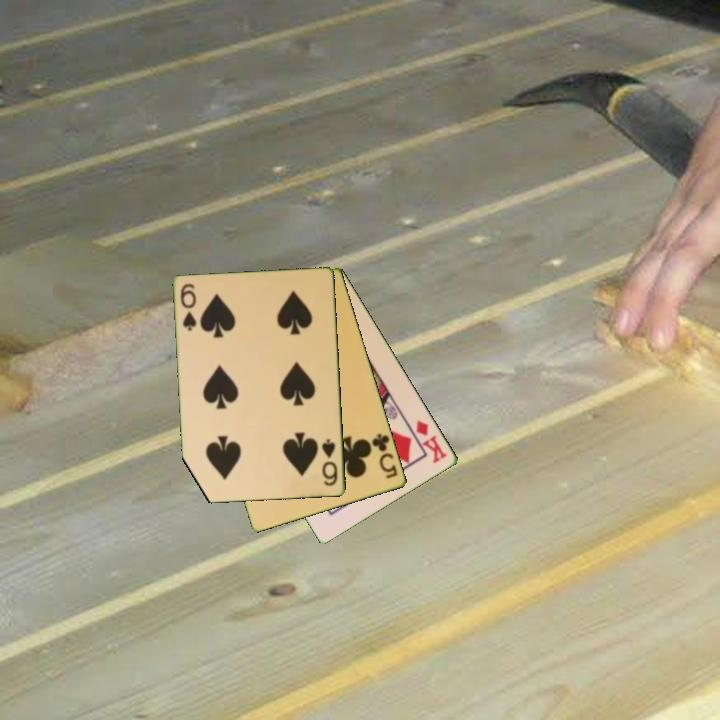5c: (369, 430, 401, 482)
6s: (177, 280, 200, 334), (319, 436, 341, 489)
Kd: (413, 417, 451, 466)
